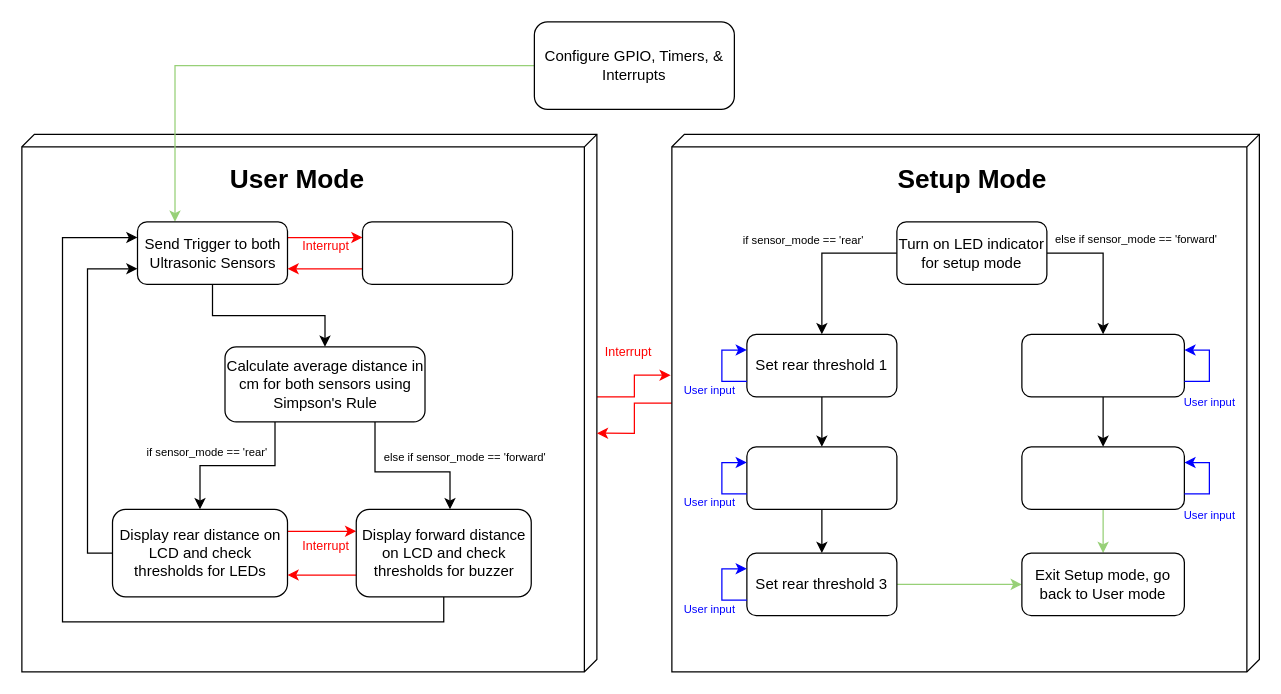
The diagram is 1281 pixels wide and 694 high, and some of its shapes have lost their labels. Here are the shapes that lost their labels. From the top down, the box of each, then its label:
(361, 221, 512, 284): Calculate width of echo response from both sensors
(1021, 333, 1184, 397): Set forward threshold 1
(746, 446, 897, 509): Set rear threshold 2
(1021, 446, 1184, 509): Set forward threshold 2
